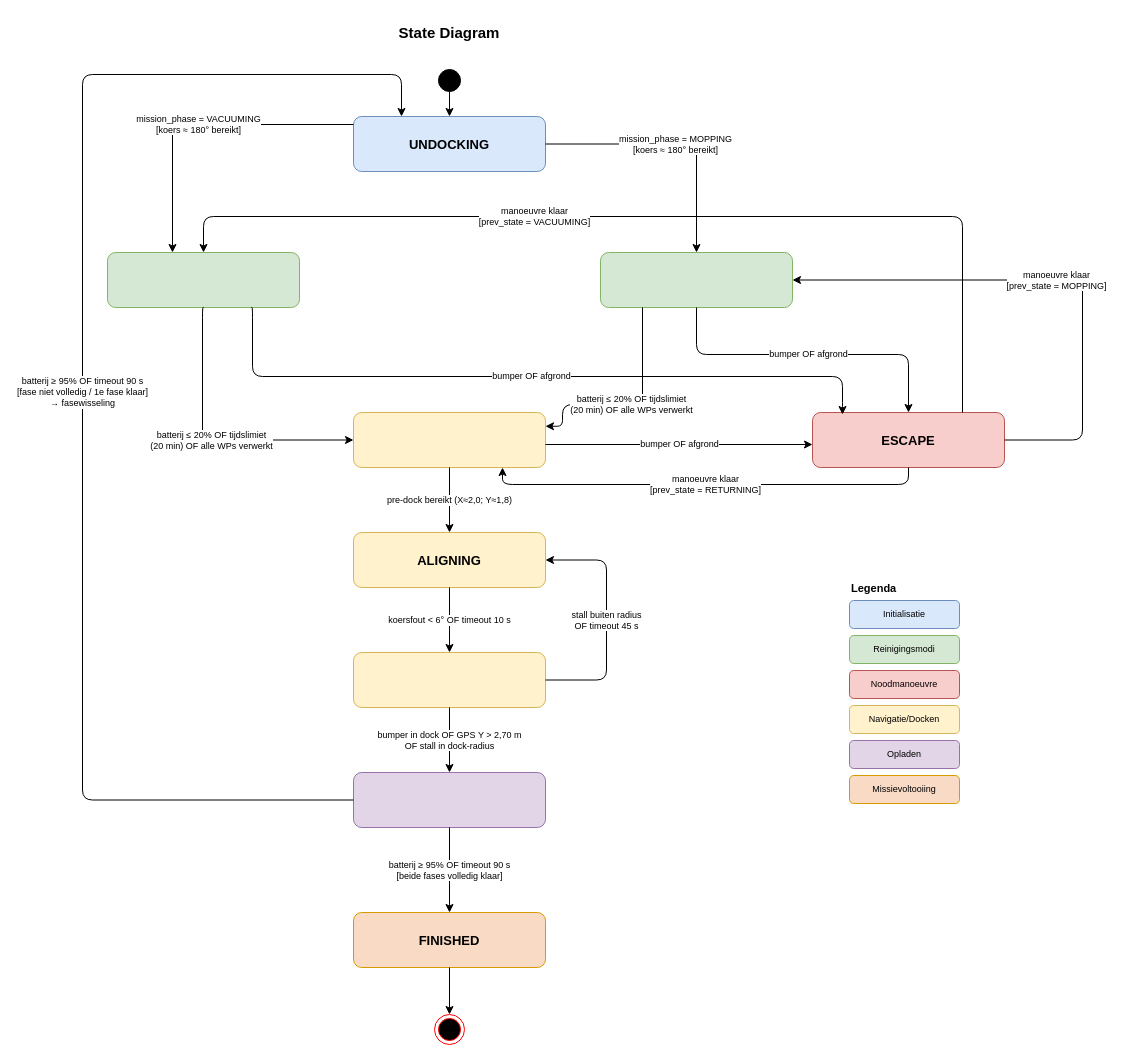
The diagram is 1124 pixels wide and 1062 high, and some of its shapes have lost their labels. Here are the shapes that lost their labels. From the top down, the centre of each, then its label:
At point 203,280: "VACUUMING".
At point 696,280: "MOPPING".
At point 449,440: "RETURNING".
At point 449,680: "DOCKING".
At point 449,800: "CHARGING".
